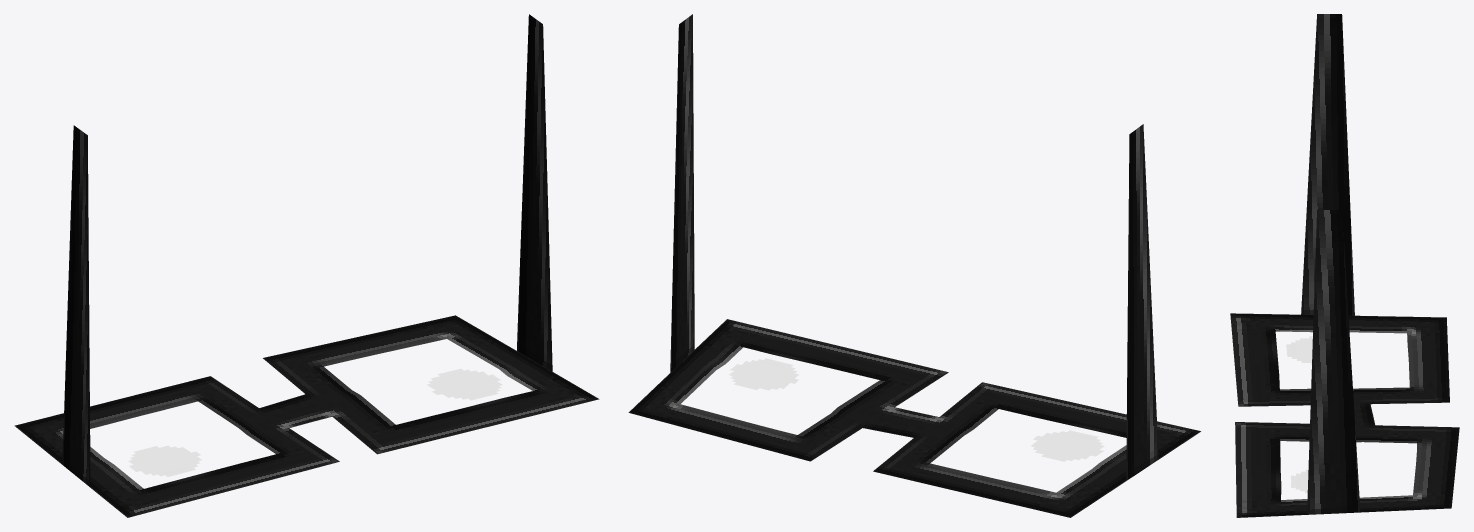
The model's file is tt_m_chr_avt_acc_msk_squareRims.glb.
3 views of the same model, side by side, from view 1: azimuth 30°, elevation 25°; view 2: azimuth 150°, elevation 25°; view 3: azimuth 270°, elevation 25° (orthographic). The views are drawn at different scales.
Visible parts, largest first — view 1: squareRims; view 2: squareRims; view 3: squareRims.
Part boxes in pixels (x1,y1,x2,y2): squareRims: (14, 14, 599, 517); squareRims: (628, 14, 1200, 517); squareRims: (1230, 14, 1459, 517).
Size of the model in its own units: 3.43 by 2.37 by 1.62.
Materials: 1 (1 with a texture image).
